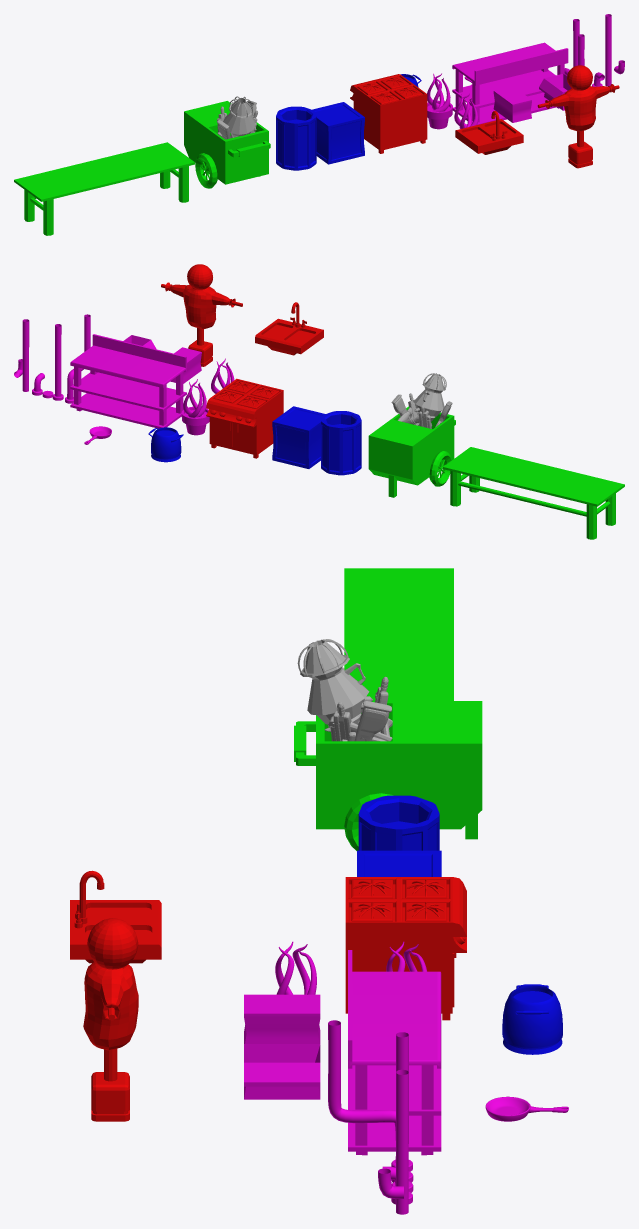
Rendered from Props-Full.fbx.
3 renders of one model, top to bottom at view 1: azimuth 30°, elevation 25°; view 2: azimuth 150°, elevation 25°; view 3: azimuth 270°, elevation 25°, orthographic. The views are drawn at different scales.
Visible parts, largest first — view 1: GG_HUB_Shop, CounterBody, GG_MobileShop, Oven_low, Dummy_Main_low, Crate_low, Barrel_low, Sink_low, polySurface57, PlantPot_low5, LargeGun_Whisk, polySurface56 (+3 smaller); view 2: CounterBody, GG_HUB_Shop, GG_MobileShop, Oven_low, Dummy_Main_low, Crate_low, Barrel_low, Sink_low, Pot_Body_low, LargeGun_Whisk, PlantPot_low5, MedGun_Barrel4 (+4 smaller); view 3: GG_MobileShop, CounterBody, GG_HUB_Shop, Oven_low, Dummy_Main_low, polySurface56, Barrel_low, Sink_low, LargeGun_Whisk, polySurface57, Pot_Body_low, MedGun_Barrel4 (+5 smaller).
Boxes of the visible parts, x1=… form: GG_HUB_Shop: x1=14, y1=142, x2=194, y2=235; CounterBody: x1=452, y1=42, x2=568, y2=124; GG_MobileShop: x1=184, y1=101, x2=270, y2=188; Oven_low: x1=350, y1=74, x2=427, y2=153; Dummy_Main_low: x1=537, y1=65, x2=619, y2=168; Crate_low: x1=312, y1=102, x2=364, y2=164; Barrel_low: x1=276, y1=106, x2=316, y2=170; Sink_low: x1=455, y1=111, x2=523, y2=154; polySurface57: x1=493, y1=86, x2=531, y2=122; PlantPot_low5: x1=427, y1=73, x2=452, y2=129; LargeGun_Whisk: x1=223, y1=96, x2=255, y2=138; polySurface56: x1=539, y1=73, x2=571, y2=110; CounterBody: x1=70, y1=334, x2=186, y2=428; GG_HUB_Shop: x1=443, y1=447, x2=624, y2=539; GG_MobileShop: x1=368, y1=406, x2=455, y2=497; Oven_low: x1=206, y1=378, x2=283, y2=458; Dummy_Main_low: x1=161, y1=264, x2=242, y2=366; Crate_low: x1=272, y1=406, x2=325, y2=468; Barrel_low: x1=321, y1=411, x2=361, y2=475; Sink_low: x1=255, y1=302, x2=323, y2=355; Pot_Body_low: x1=148, y1=427, x2=183, y2=462; LargeGun_Whisk: x1=413, y1=373, x2=446, y2=426; PlantPot_low5: x1=181, y1=379, x2=209, y2=435; MedGun_Barrel4: x1=391, y1=393, x2=452, y2=428; GG_MobileShop: x1=294, y1=701, x2=482, y2=850; CounterBody: x1=348, y1=950, x2=441, y2=1151; GG_HUB_Shop: x1=344, y1=568, x2=453, y2=700; Oven_low: x1=345, y1=877, x2=466, y2=1020; Dummy_Main_low: x1=83, y1=918, x2=138, y2=1121; polySurface56: x1=244, y1=1044, x2=320, y2=1099; Barrel_low: x1=358, y1=795, x2=439, y2=850; Sink_low: x1=70, y1=870, x2=161, y2=963; LargeGun_Whisk: x1=297, y1=639, x2=372, y2=726; polySurface57: x1=244, y1=994, x2=320, y2=1043; Pot_Body_low: x1=502, y1=984, x2=562, y2=1054; MedGun_Barrel4: x1=324, y1=667, x2=392, y2=741.
Size of the model in its own units: 283 by 44.39 by 103.
